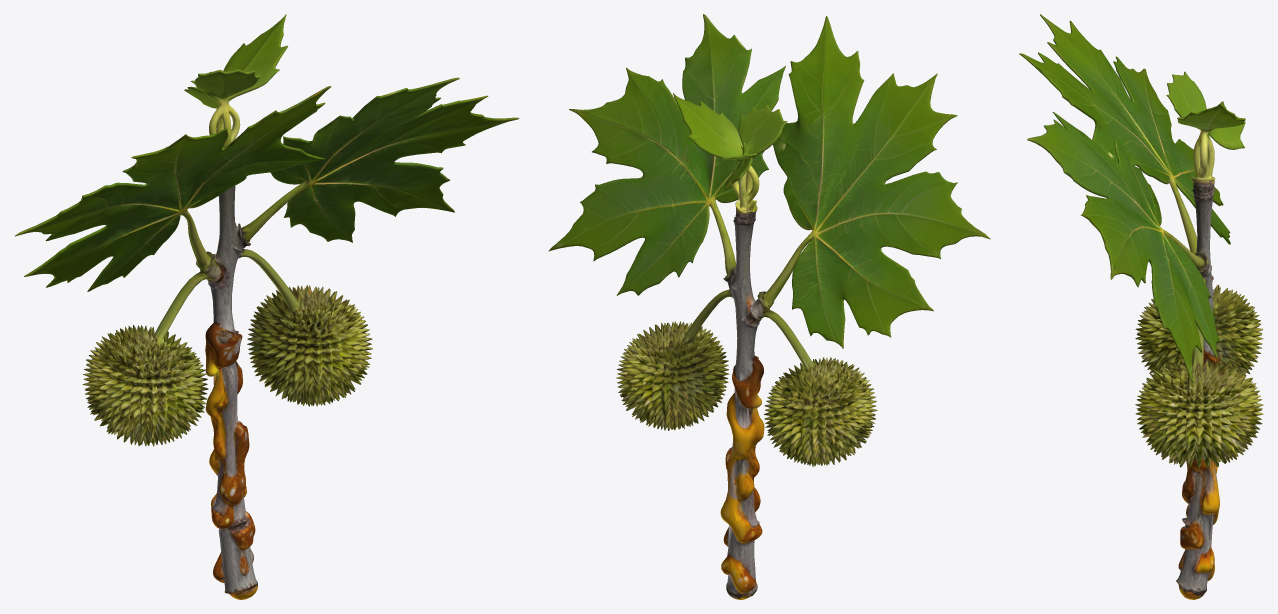
The model's file is suhexiang.glb.
The picture shows the model from 3 angles, left to right: view 1: azimuth 30°, elevation 25°; view 2: azimuth 150°, elevation 25°; view 3: azimuth 270°, elevation 25°; orthographic projection. The views are drawn at different scales.
Visible parts, largest first — view 1: node_0; view 2: node_0; view 3: node_0.
Part boxes in pixels (box(x1,y1,x2,y2)): node_0: box(15, 14, 519, 599); node_0: box(548, 14, 990, 599); node_0: box(1019, 14, 1263, 599).
Bounding box in the file's own units: 0.9602 × 1.09 × 0.4466.
Materials: 1 (1 with a texture image).
